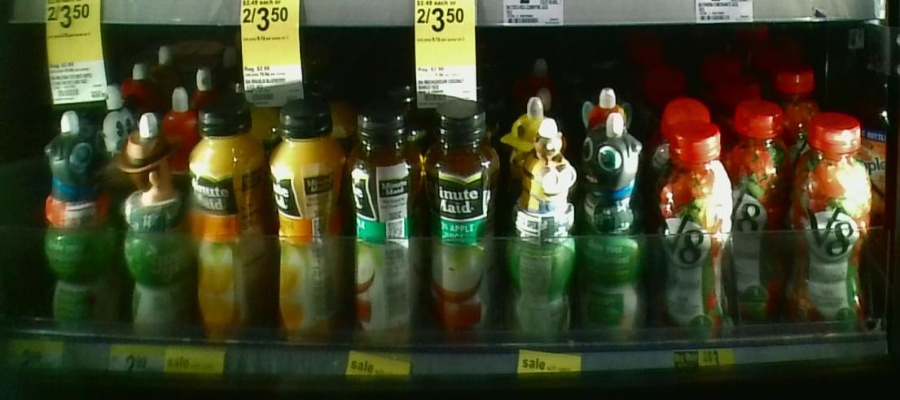bottle: (190, 94, 267, 343), (345, 102, 423, 346), (270, 89, 341, 344), (428, 98, 500, 348), (656, 126, 737, 343), (113, 105, 187, 339), (504, 121, 580, 345), (795, 110, 871, 329), (41, 105, 112, 339), (583, 110, 648, 350), (735, 97, 788, 324)
